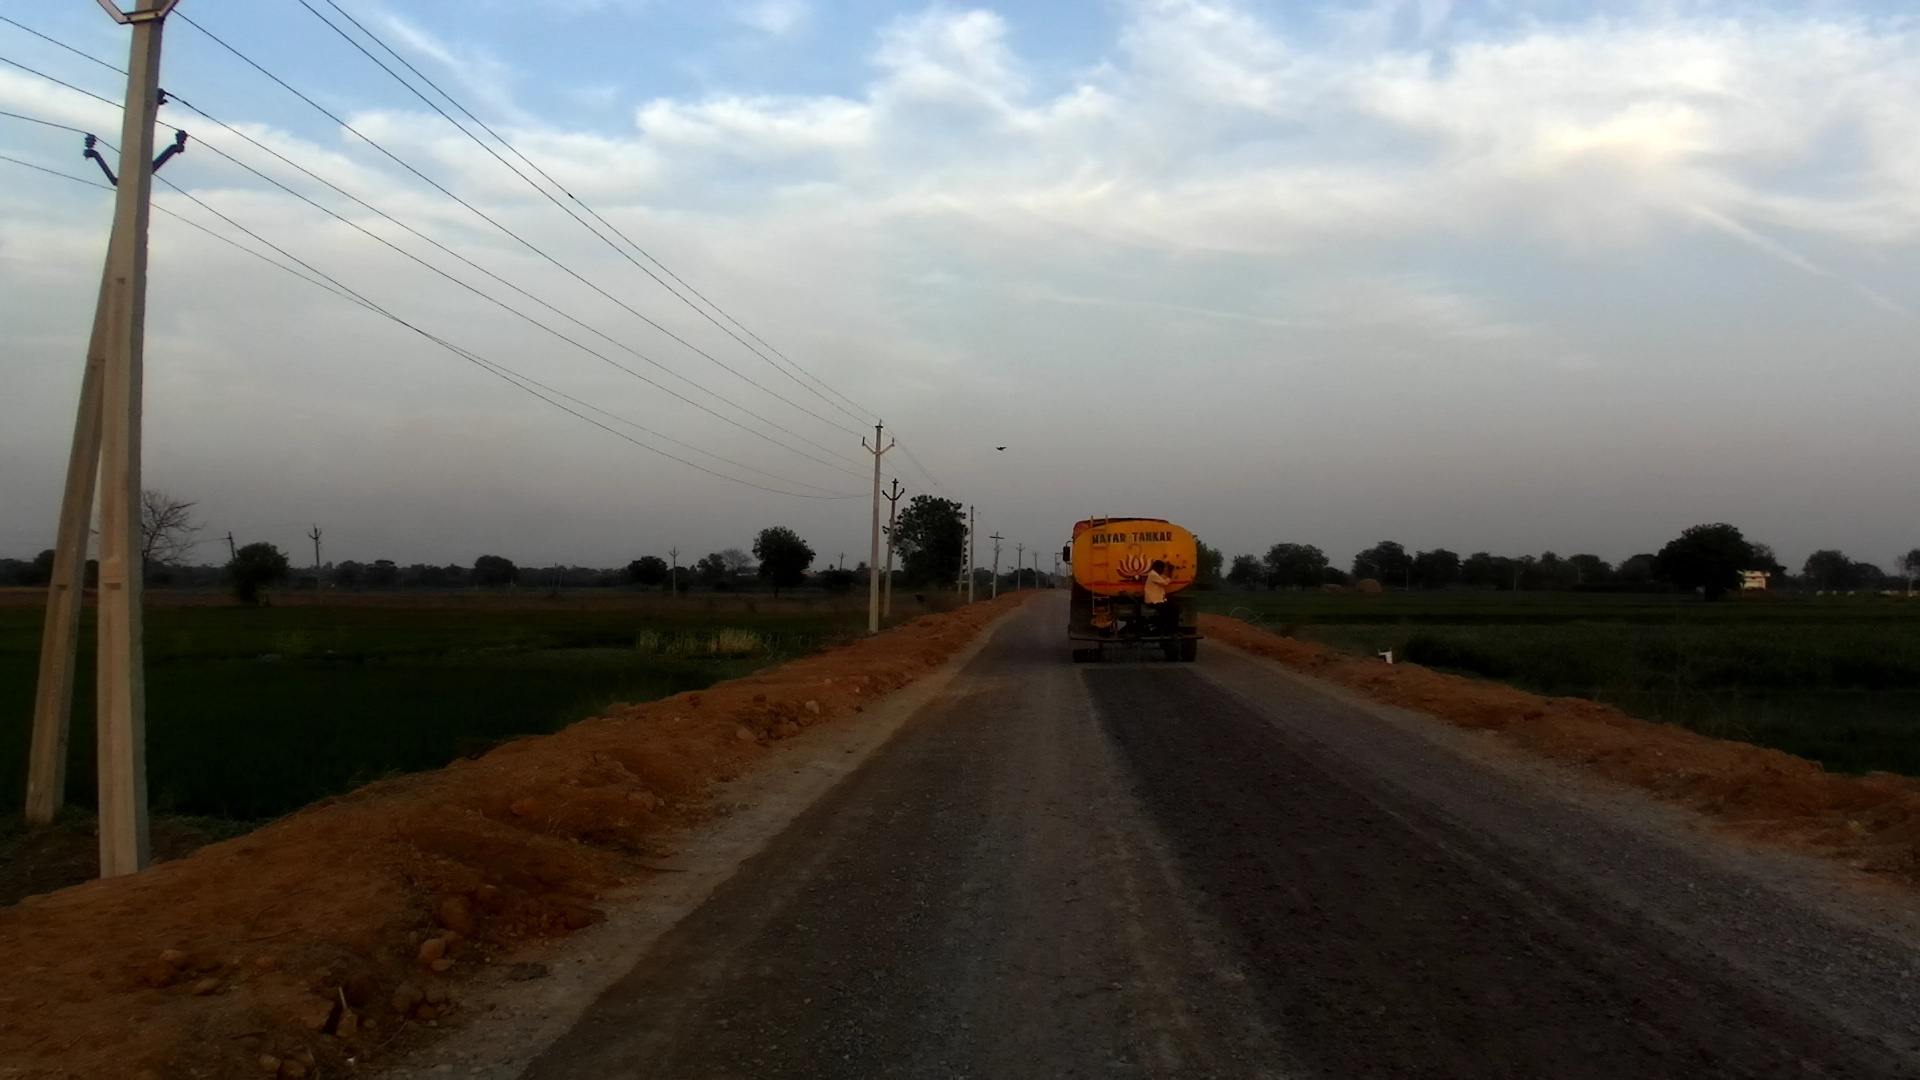truck: (1058, 513, 1209, 671)
